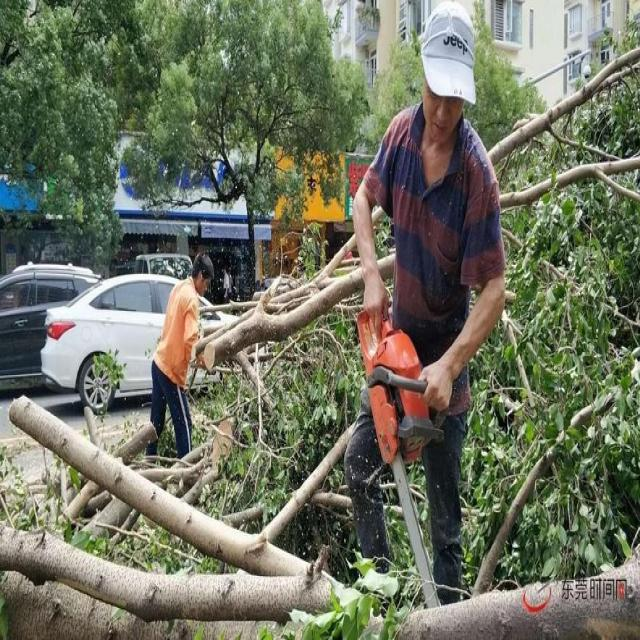fallen_object: (205, 41, 640, 377)
